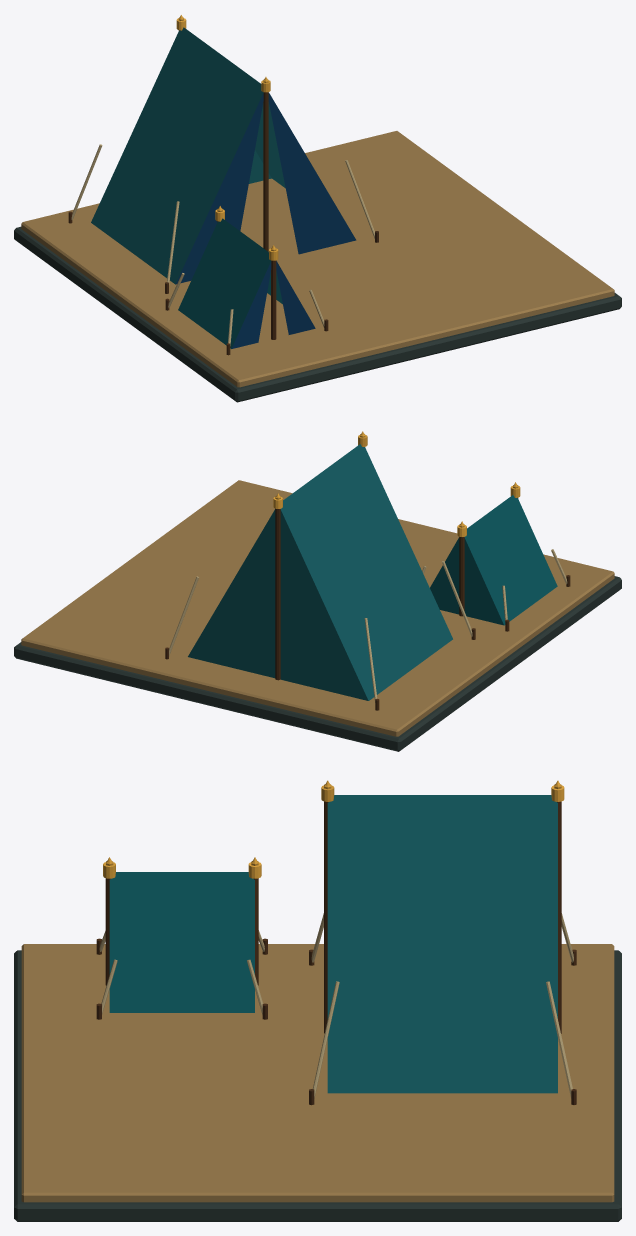
3 views of the same model, one above another, from view 1: azimuth 30°, elevation 25°; view 2: azimuth 150°, elevation 25°; view 3: azimuth 270°, elevation 25° (orthographic). The views are drawn at different scales.
Visible parts, largest first — view 1: camp_level2_structure; view 2: camp_level2_structure, camp_level2_metal; view 3: camp_level2_structure, camp_level2_metal.
Boxes of the visible parts, <box> form: camp_level2_structure: <box>14,17,621,402</box>; camp_level2_structure: <box>14,434,621,751</box>; camp_level2_metal: <box>273,431,520,536</box>; camp_level2_structure: <box>14,784,621,1221</box>; camp_level2_metal: <box>103,780,564,878</box>.
Bounding box in the file's own units: 5.6 × 2.87 × 5.6.
